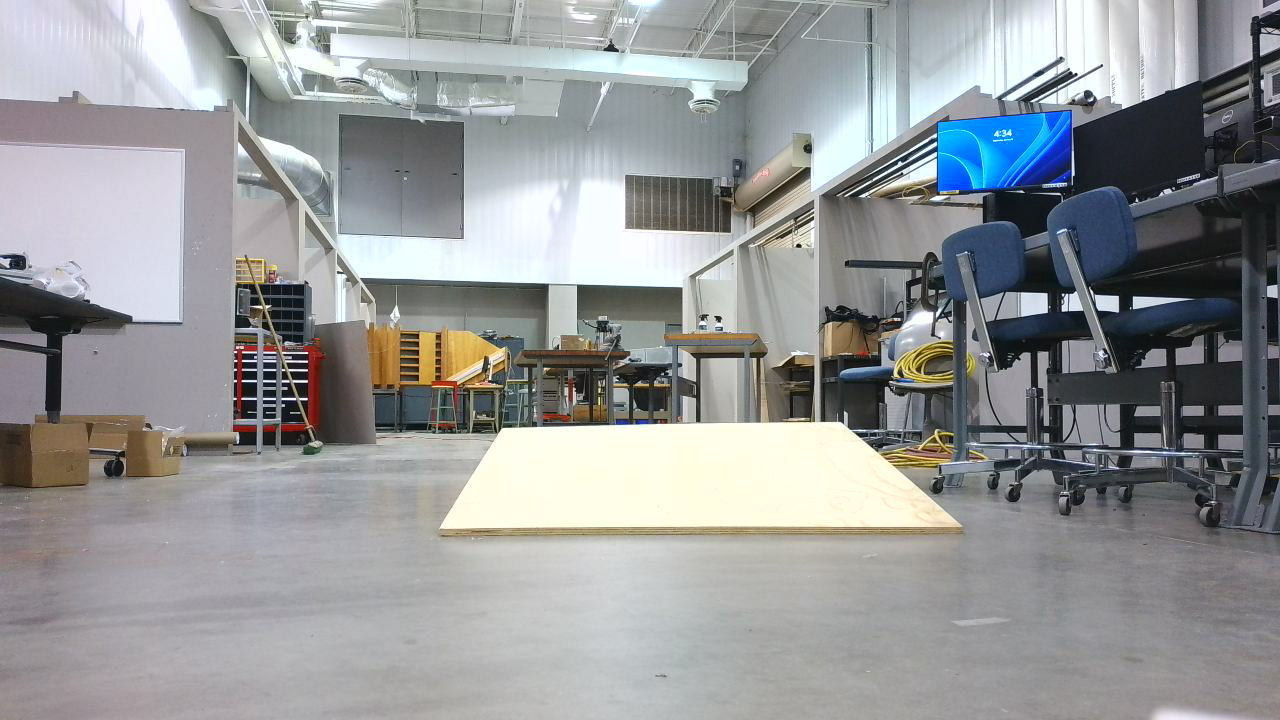ramp: (438, 422, 975, 547)
